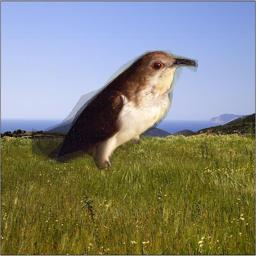Cuckoo: (32, 50, 198, 171)
